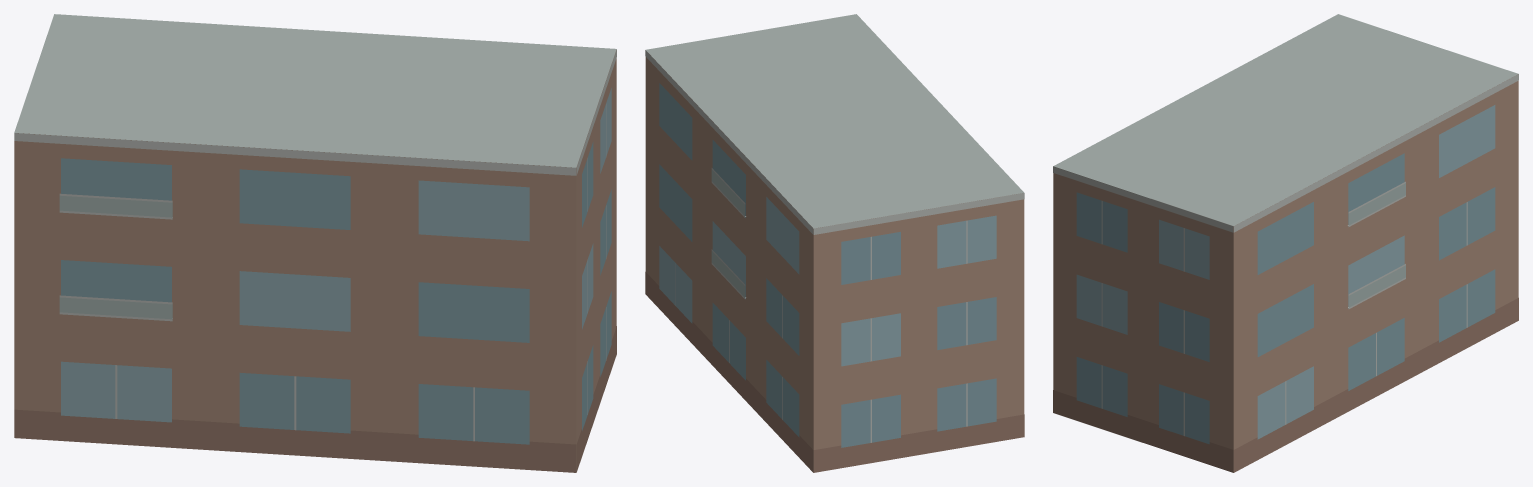
The model's file is survey-upis-32808824.glb.
The picture shows the model from 3 angles, left to right: view 1: azimuth 30°, elevation 25°; view 2: azimuth 150°, elevation 25°; view 3: azimuth 270°, elevation 25°; orthographic projection. The views are drawn at different scales.
Visible parts, largest first — view 1: survey-upis-32808824.tmp; view 2: survey-upis-32808824.tmp; view 3: survey-upis-32808824.tmp.
Part boxes in pixels (x1,y1,x2,y2): survey-upis-32808824.tmp: (14,14,616,472); survey-upis-32808824.tmp: (645,14,1024,472); survey-upis-32808824.tmp: (1053,14,1518,472).
Size of the model in its own units: 16.89 by 9.15 by 15.66.
